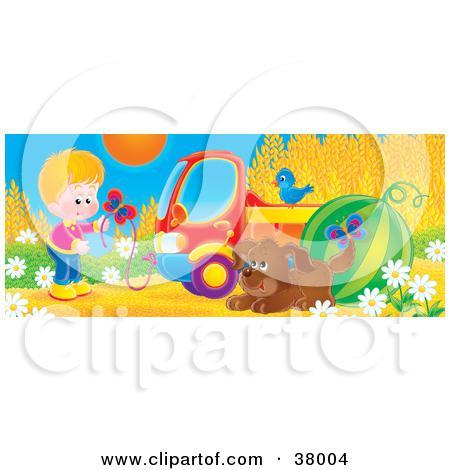car: (153, 146, 332, 306)
dog: (224, 236, 358, 316)
person: (34, 146, 103, 300)
